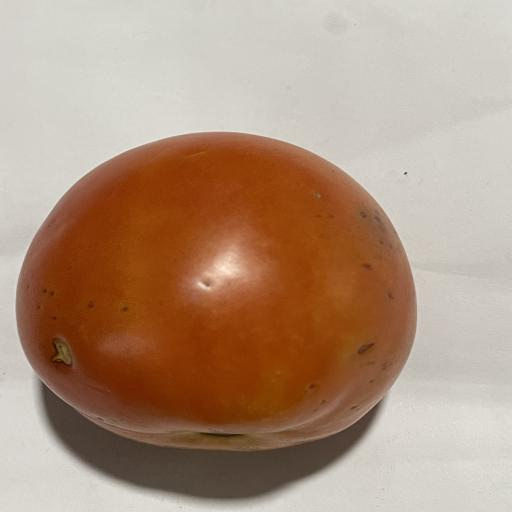unripe: (16, 133, 416, 451)
